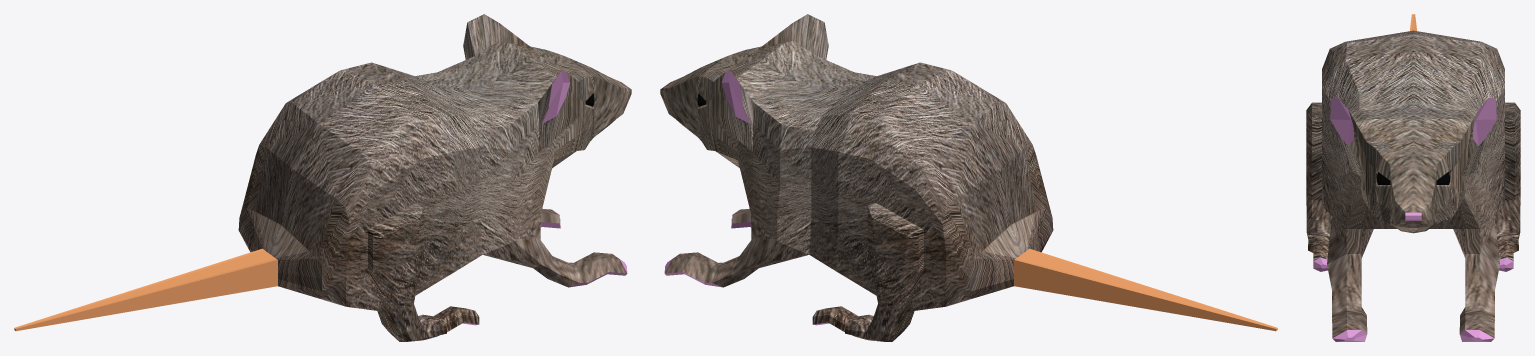
The model's file is Textured_Rat.gltf.
3 views of the same model, side by side, from view 1: azimuth 30°, elevation 25°; view 2: azimuth 150°, elevation 25°; view 3: azimuth 270°, elevation 25° (orthographic). The views are drawn at different scales.
Parts seen in each view (by area): view 1: Rat; view 2: Rat; view 3: Rat.
Boxes of the visible parts, bbox=[...] form: Rat: bbox=[14, 14, 631, 341]; Rat: bbox=[660, 14, 1277, 341]; Rat: bbox=[1306, 14, 1520, 341].
Bounding box in the file's own units: 7.46 × 2.62 × 2.32.
Materials: 4 (1 with a texture image).
